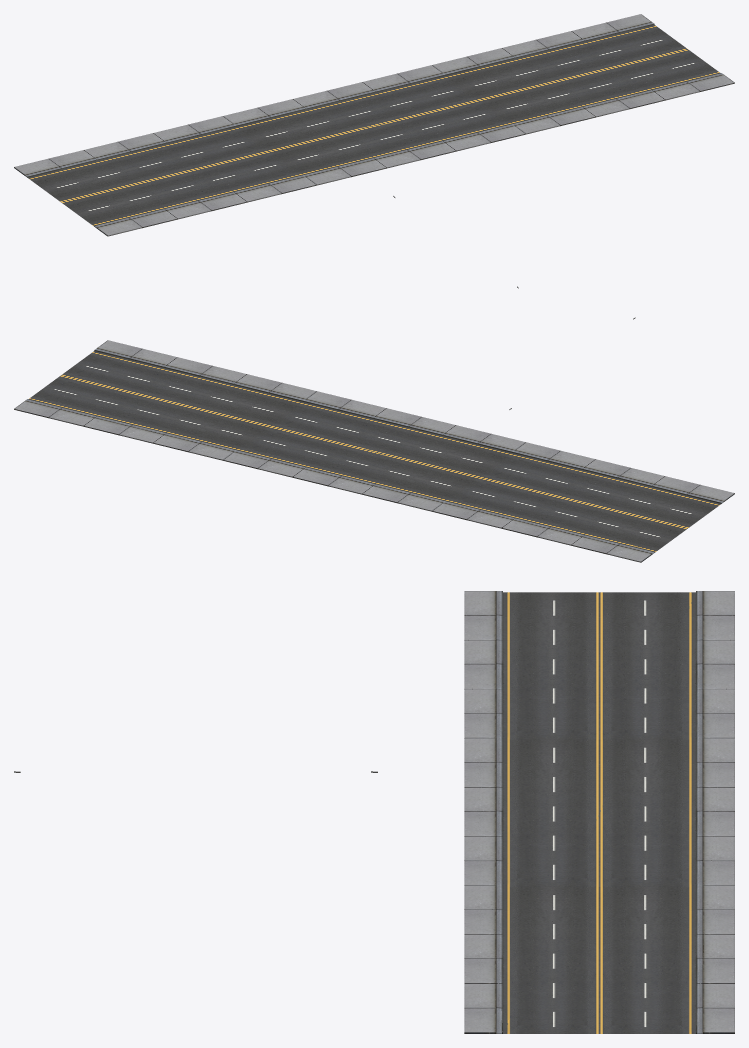
File: road.obj
The picture shows the model from 3 angles, top to bottom: view 1: azimuth 30°, elevation 25°; view 2: azimuth 150°, elevation 25°; view 3: azimuth 270°, elevation 25°; orthographic projection. The views are drawn at different scales.
Visible parts, largest first — view 1: Modular_Roads_Pack; view 2: Modular_Roads_Pack; view 3: Modular_Roads_Pack.
Part boxes in pixels (x1,y1,x2,y2): Modular_Roads_Pack: (14,14,734,288); Modular_Roads_Pack: (14,317,734,562); Modular_Roads_Pack: (14,591,734,1033).
Size of the model in its own units: 146 by 0.3067 by 101.
Materials: 1 (1 with a texture image).
